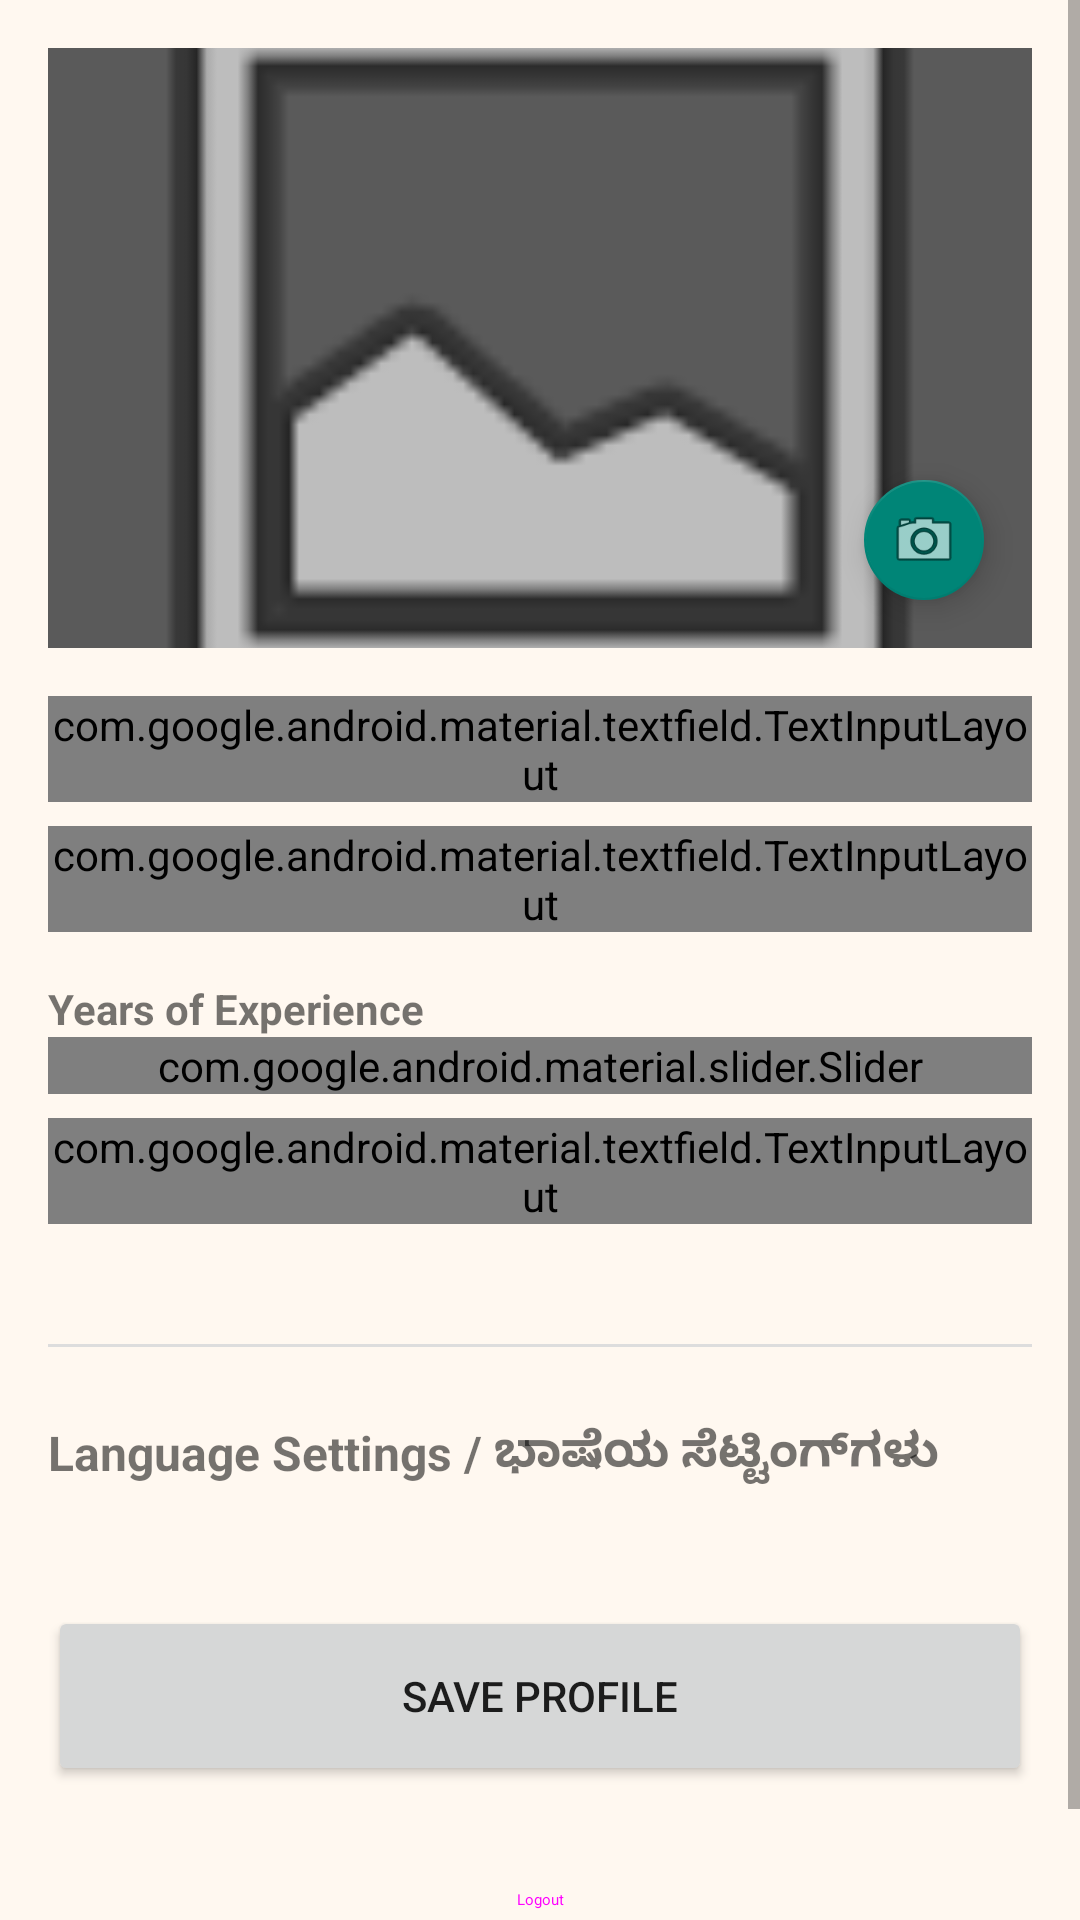

Where to tap for icons on this 1080x1920 app screen, as (x,y):
camera: (924,540)
